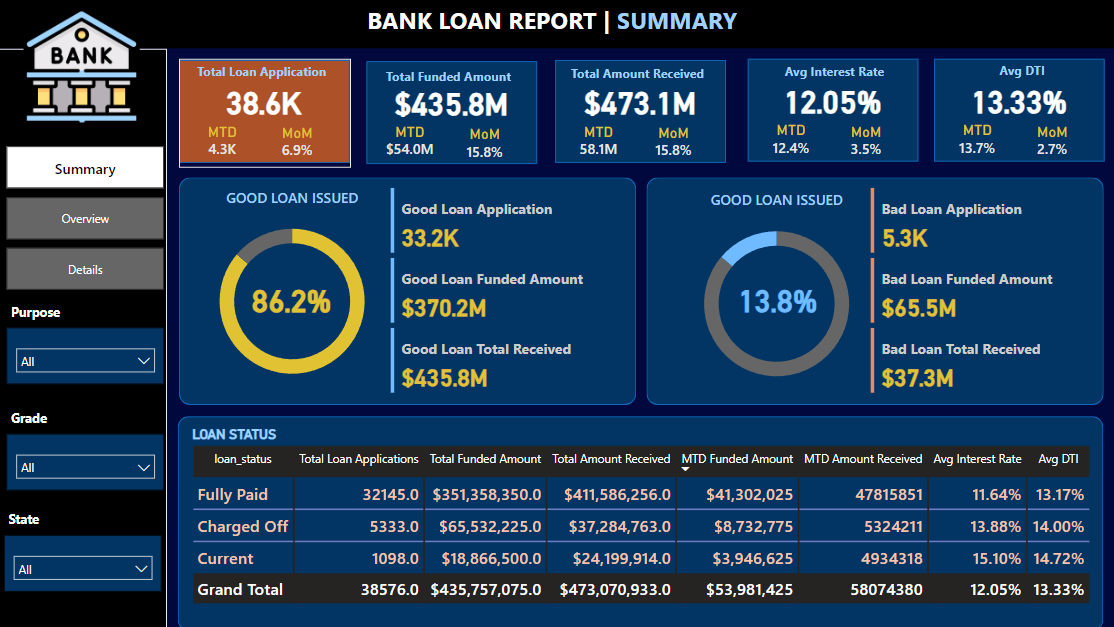

What the dashboard file says about the page in this screenshot:
{"tool":"powerbi","page":{"name":"Summary","canvas":[1280,720],"ordinal":0},"visuals":[{"type":"shape","box":[0,0,1280,55.3],"z":0},{"type":"shape","box":[1068.8,67,195,117.5],"z":0,"group":"g6"},{"type":"shape","box":[856.2,68.1,195,117.5],"z":0,"group":"g4"},{"type":"shape","box":[206,69.5,195,117.5],"z":0,"group":"g1"},{"type":"shape","box":[420,69.5,195,117.5],"z":0,"group":"g2"},{"type":"shape","box":[635,69.5,195,117.5],"z":0,"group":"g3"},{"type":"donutChart","title":"GOOD LOAN ISSUED","fields":{"Y":["financial_loan.Total Loan Applications"],"Category":["financial_loan.Good Vs Bad loan"]},"box":[202.7,213.8,264.7,238.8],"z":0,"group":"g5"},{"type":"card","fields":{"Values":["financial_loan.Avg DTI"]},"box":[1084.5,72,162.5,81.2],"z":1000,"group":"g6"},{"type":"card","fields":{"Values":["financial_loan.Avg Interest Rate"]},"box":[871.9,73.1,162.5,81.2],"z":1000,"group":"g4"},{"type":"card","fields":{"Values":["financial_loan.Total Loan Applications"]},"box":[221.7,74.5,162.5,81.2],"z":1000,"group":"g1"},{"type":"card","fields":{"Values":["financial_loan.Total Funded Amount"]},"box":[435.7,74.5,162.5,81.2],"z":1000,"group":"g2"},{"type":"card","fields":{"Values":["financial_loan.Total Amount Received"]},"box":[650.7,74.5,162.5,81.2],"z":1000,"group":"g3"},{"type":"shape","box":[740.3,203.5,522.5,260],"z":1000},{"type":"shape","box":[0,55.5,192,664.5],"z":2000},{"type":"textbox","box":[1083.8,65,170,40],"z":2000,"group":"g6"},{"type":"textbox","box":[221,67.5,170,40],"z":2000,"group":"g1"},{"type":"textbox","box":[889.6,67.5,132.5,38.8],"z":2000,"group":"g4"},{"type":"textbox","box":[647.5,68.9,190,38.8],"z":2000,"group":"g3"},{"type":"textbox","box":[437.6,72.8,167.1,32.9],"z":2000,"group":"g2"},{"type":"card","title":"MTD","fields":{"Values":["financial_loan.MTD DTI"]},"box":[1074.5,137.5,87.5,50],"z":3000,"group":"g6"},{"type":"card","title":"MTD","fields":{"Values":["financial_loan.MTD Interest Rate"]},"box":[861.9,138.6,87.5,50],"z":3000,"group":"g4"},{"type":"card","title":"MTD","fields":{"Values":["financial_loan.MTD Loan Application"]},"box":[211.7,140,87.5,50],"z":3000,"group":"g1"},{"type":"card","title":"MTD","fields":{"Values":["financial_loan.MTD Funded Amount"]},"box":[425.7,140,87.5,50],"z":3000,"group":"g2"},{"type":"card","title":"MTD","fields":{"Values":["financial_loan.MTD Amount Received"]},"box":[640.7,140,87.5,50],"z":3000,"group":"g3"},{"type":"donutChart","title":"GOOD LOAN ISSUED","fields":{"Y":["financial_loan.Total Loan Applications"],"Category":["financial_loan.Good Vs Bad loan"]},"box":[757.6,216.5,263.5,238.8],"z":3000},{"type":"card","fields":{"Values":["financial_loan.Good Loan %"]},"box":[270.1,309.4,128.2,63.5],"z":3000,"group":"g5"},{"type":"card","title":"MoM","fields":{"Values":["financial_loan.MOM DTI"]},"box":[1160.5,139.5,87.5,50],"z":4000,"group":"g6"},{"type":"card","title":"MoM","fields":{"Values":["financial_loan.MOM Interest Rate"]},"box":[947.9,140.6,87.5,50],"z":4000,"group":"g4"},{"type":"card","title":"MoM","fields":{"Values":["financial_loan.MOM Loan Application"]},"box":[297.7,142,87.5,50],"z":4000,"group":"g1"},{"type":"card","title":"MoM","fields":{"Values":["financial_loan.MOM Funded Amount"]},"box":[511.7,142,87.5,50],"z":4000,"group":"g2"},{"type":"card","title":"MoM","fields":{"Values":["financial_loan.MOM Amount Received"]},"box":[726.7,142,87.5,50],"z":4000,"group":"g3"},{"type":"card","fields":{"Values":["financial_loan.Bad Loan %"]},"box":[825.9,309.4,128.2,63.5],"z":4000},{"type":"textbox","box":[8.2,341.2,167.1,32.9],"z":4000,"group":"g10"},{"type":"textbox","box":[8.2,463.5,167.1,32.9],"z":4000,"group":"g9"},{"type":"textbox","box":[5.2,577.9,167.1,32.9],"z":4000,"group":"g8"},{"type":"textbox","box":[416.1,0,448.6,51.9],"z":5000},{"type":"group","id":"g1","title":"Group 1","box":[206,67.5,195,123.8],"z":6000},{"type":"shape","box":[205.3,203.5,522.5,260],"z":7000},{"type":"group","id":"g2","title":"Group 1","box":[420,69.5,195,122.5],"z":8000},{"type":"group","id":"g3","title":"Group 1","box":[635,68.9,202.5,123.1],"z":9000},{"type":"group","id":"g4","title":"Group 1","box":[856.2,67.5,195,123.8],"z":10000},{"type":"group","id":"g5","title":"Group 3","box":[202.7,213.8,264.7,238.8],"z":10001,"group":"g7"},{"type":"group","id":"g6","title":"Group 1","box":[1068.8,65,195,123.8],"z":11000},{"type":"group","id":"g7","title":"Group 2","box":[202.7,213.8,264.7,238.8],"z":12000},{"type":"cardVisual","fields":{"Data":["financial_loan.Good Loan Application","financial_loan.Good Loan Funded Amount","financial_loan.Good Loan Total Received"]},"box":[443.5,210.6,272.9,244.7],"z":13000},{"type":"cardVisual","fields":{"Data":["financial_loan.Bad Loan Application","financial_loan.Bad Loan Funded Amount","financial_loan.Bad Loan Total Received"]},"box":[991.8,210.6,272.9,244.7],"z":14000},{"type":"shape","box":[204.7,475.3,1057.6,244.7],"z":15000},{"type":"tableEx","title":"LOAN STATUS","fields":{"Values":["financial_loan.loan_status","financial_loan.Total Loan Applications","financial_loan.Total Funded Amount","financial_loan.Total Amount Received","financial_loan.MTD Funded Amount","financial_loan.MTD Amount Received","financial_loan.Avg Interest Rate","financial_loan.Avg DTI"]},"box":[215.3,487.1,1042.4,216.5],"z":16000},{"type":"group","id":"g8","title":"Group 4","box":[5.2,577.9,180,97.9],"z":17000},{"type":"slicer","fields":{"Values":["financial_loan.purpose"]},"box":[8.2,374.1,180,65],"z":18000,"group":"g10"},{"type":"group","id":"g9","title":"Group 4","box":[8.2,463.5,180,97.6],"z":18000},{"type":"slicer","fields":{"Values":["financial_loan.grade"]},"box":[8.2,496.4,180,65],"z":18000,"group":"g9"},{"type":"slicer","fields":{"Values":["financial_loan.address_state"]},"box":[5.2,610.8,180,65],"z":18000,"group":"g8"},{"type":"group","id":"g10","title":"Group 4","box":[8.2,341.2,180,97.6],"z":19000},{"type":"pageNavigator","box":[8.4,166.4,180.9,166.4],"z":20000},{"type":"image","box":[20.5,3.6,148.3,142.3],"z":21000}]}

Visuals, with their boxes in screenshot pixels (x1, y1, x2, y2), scaled from the page's 1280x720 canvas onto the 1114x627 screenshot:
shape: bbox=[0, 0, 1113, 48]
shape: bbox=[930, 58, 1100, 161]
shape: bbox=[745, 59, 915, 162]
shape: bbox=[179, 61, 349, 163]
shape: bbox=[366, 61, 535, 163]
shape: bbox=[553, 61, 722, 163]
"GOOD LOAN ISSUED" donutChart: bbox=[176, 186, 407, 394]
card - financial_loan.Avg DTI: bbox=[944, 63, 1085, 133]
card - financial_loan.Avg Interest Rate: bbox=[759, 64, 900, 134]
card - financial_loan.Total Loan Applications: bbox=[193, 65, 334, 136]
card - financial_loan.Total Funded Amount: bbox=[379, 65, 521, 136]
card - financial_loan.Total Amount Received: bbox=[566, 65, 708, 136]
shape: bbox=[644, 177, 1099, 404]
shape: bbox=[0, 48, 167, 626]
textbox: bbox=[943, 57, 1091, 91]
textbox: bbox=[192, 59, 340, 94]
textbox: bbox=[774, 59, 890, 93]
textbox: bbox=[564, 60, 729, 94]
textbox: bbox=[381, 63, 526, 92]
"MTD" card: bbox=[935, 120, 1011, 163]
"MTD" card: bbox=[750, 121, 826, 164]
"MTD" card: bbox=[184, 122, 260, 165]
"MTD" card: bbox=[370, 122, 447, 165]
"MTD" card: bbox=[558, 122, 634, 165]
"GOOD LOAN ISSUED" donutChart: bbox=[659, 189, 889, 396]
card - financial_loan.Good Loan %: bbox=[235, 269, 347, 325]
"MoM" card: bbox=[1010, 121, 1086, 165]
"MoM" card: bbox=[825, 122, 901, 166]
"MoM" card: bbox=[259, 124, 335, 167]
"MoM" card: bbox=[445, 124, 521, 167]
"MoM" card: bbox=[632, 124, 709, 167]
card - financial_loan.Bad Loan %: bbox=[719, 269, 830, 325]
textbox: bbox=[7, 297, 153, 326]
textbox: bbox=[7, 404, 153, 432]
textbox: bbox=[5, 503, 150, 532]
textbox: bbox=[362, 0, 753, 45]
"Group 1" group: bbox=[179, 59, 349, 167]
shape: bbox=[179, 177, 633, 404]
"Group 1" group: bbox=[366, 61, 535, 167]
"Group 1" group: bbox=[553, 60, 729, 167]
"Group 1" group: bbox=[745, 59, 915, 167]
"Group 3" group: bbox=[176, 186, 407, 394]
"Group 1" group: bbox=[930, 57, 1100, 164]
"Group 2" group: bbox=[176, 186, 407, 394]
cardVisual - financial_loan.Good Loan Application x financial_loan.Good Loan Funded Amount: bbox=[386, 183, 623, 396]
cardVisual - financial_loan.Bad Loan Application x financial_loan.Bad Loan Funded Amount: bbox=[863, 183, 1101, 396]
shape: bbox=[178, 414, 1099, 626]
"LOAN STATUS" tableEx: bbox=[187, 424, 1095, 613]
"Group 4" group: bbox=[5, 503, 161, 589]
slicer - financial_loan.purpose: bbox=[7, 326, 164, 382]
"Group 4" group: bbox=[7, 404, 164, 489]
slicer - financial_loan.grade: bbox=[7, 432, 164, 489]
slicer - financial_loan.address_state: bbox=[5, 532, 161, 589]
"Group 4" group: bbox=[7, 297, 164, 382]
pageNavigator: bbox=[7, 145, 165, 290]
image: bbox=[18, 3, 147, 127]
